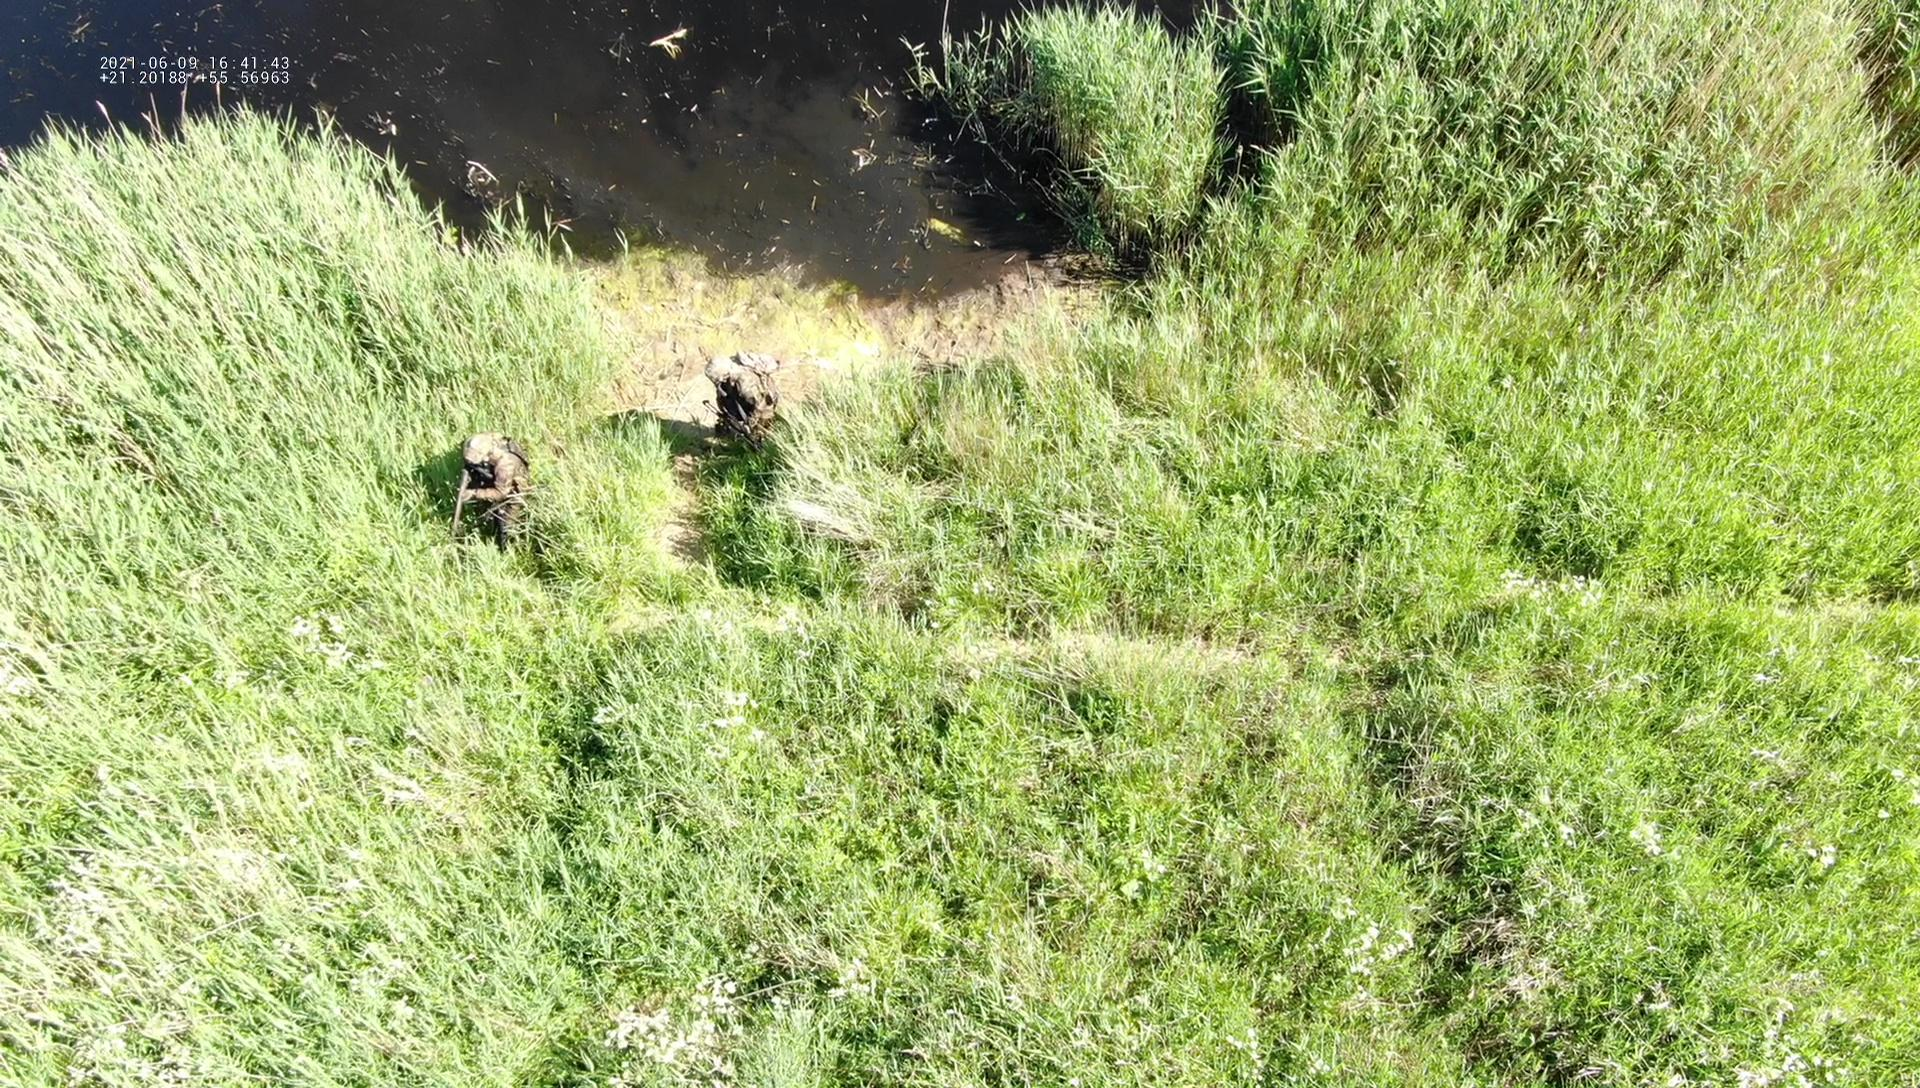Soldier: (448, 430, 531, 550), (702, 349, 778, 448)
